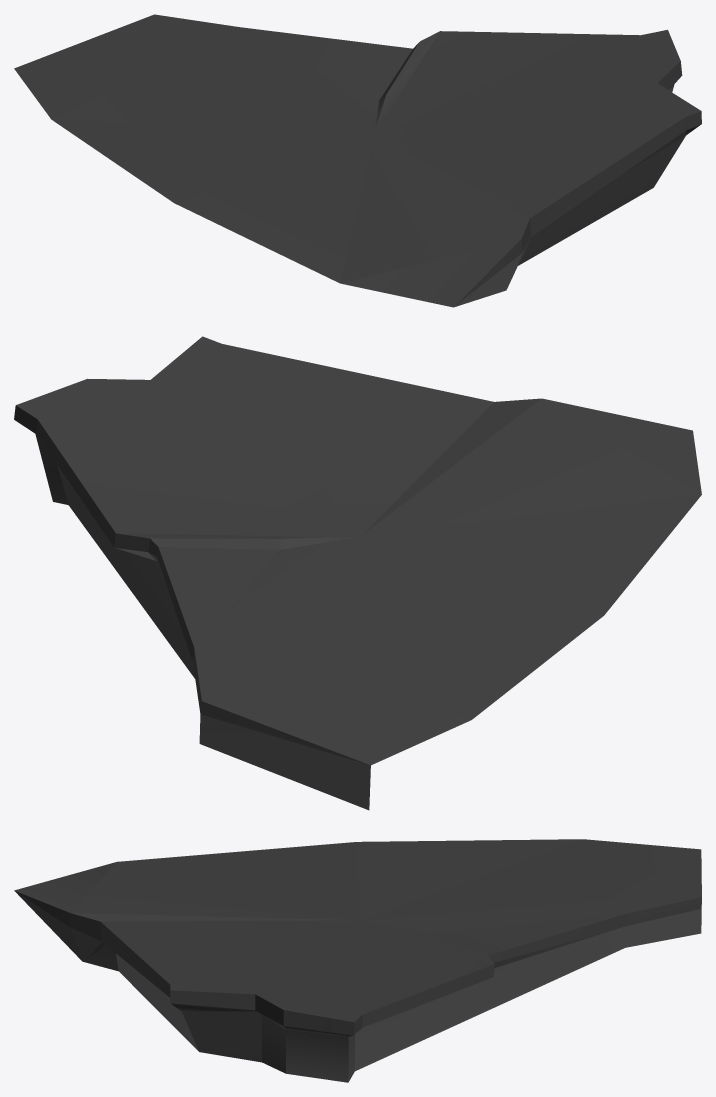
The model's file is SM_Env_RoadPiece_Damaged_07.glb.
3 views of the same model, one above another, from view 1: azimuth 30°, elevation 25°; view 2: azimuth 150°, elevation 25°; view 3: azimuth 270°, elevation 25° (orthographic). The views are drawn at different scales.
Visible parts, largest first — view 1: SM_Env_RoadPiece_Damaged_07; view 2: SM_Env_RoadPiece_Damaged_07; view 3: SM_Env_RoadPiece_Damaged_07.
Part boxes in pixels (x1=…): SM_Env_RoadPiece_Damaged_07: x1=14, y1=14, x2=701, y2=307; SM_Env_RoadPiece_Damaged_07: x1=14, y1=336, x2=701, y2=810; SM_Env_RoadPiece_Damaged_07: x1=14, y1=839, x2=701, y2=1082.
Bounding box in the file's own units: 2.37 × 0.4294 × 2.91.
Materials: 1 (1 with a texture image).
